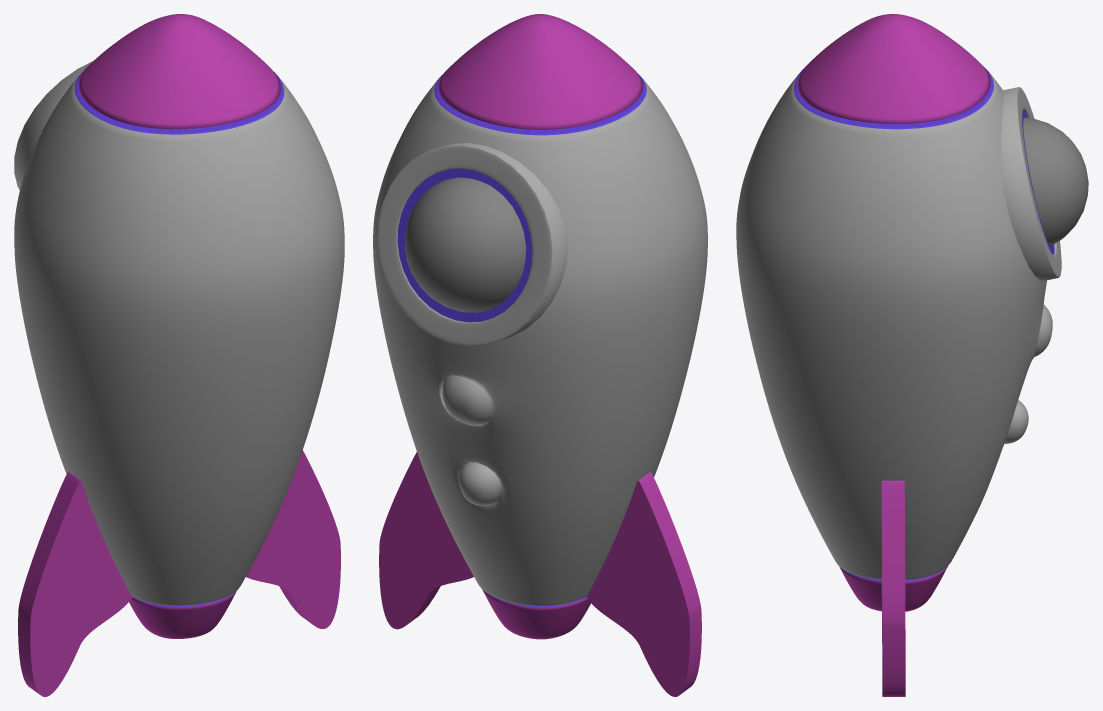
Rendered from Violet Ship.fbx.
3 renders of one model, left to right at view 1: azimuth 30°, elevation 25°; view 2: azimuth 150°, elevation 25°; view 3: azimuth 270°, elevation 25°, orthographic. The views are drawn at different scales.
Parts seen in each view (by area): view 1: Body, Fin2, Fin1, Window Cover; view 2: Body, Window Cover, Fin2, Glass Window, Fin1, Window BLue; view 3: Body, Glass Window, Window Cover, Fin1.
Boxes of the visible parts, left/top/right/bottom form: Body: left=14, top=14, right=344, bottom=638; Fin2: left=18, top=471, right=131, bottom=696; Fin1: left=246, top=450, right=340, bottom=628; Window Cover: left=14, top=61, right=92, bottom=190; Body: left=373, top=14, right=707, bottom=639; Window Cover: left=376, top=143, right=568, bottom=346; Fin2: left=587, top=472, right=701, bottom=696; Glass Window: left=405, top=177, right=525, bottom=312; Fin1: left=379, top=452, right=473, bottom=629; Window BLue: left=397, top=168, right=532, bottom=322; Body: left=736, top=14, right=1052, bottom=611; Glass Window: left=1023, top=117, right=1088, bottom=245; Window Cover: left=1001, top=87, right=1061, bottom=280; Fin1: left=881, top=480, right=905, bottom=696.
Bounding box in the file's own units: 297 × 585 × 304.
